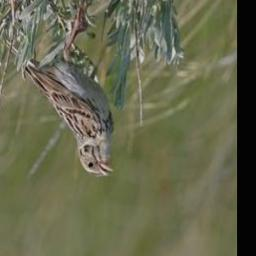Sparrow: (0, 11, 115, 184)
